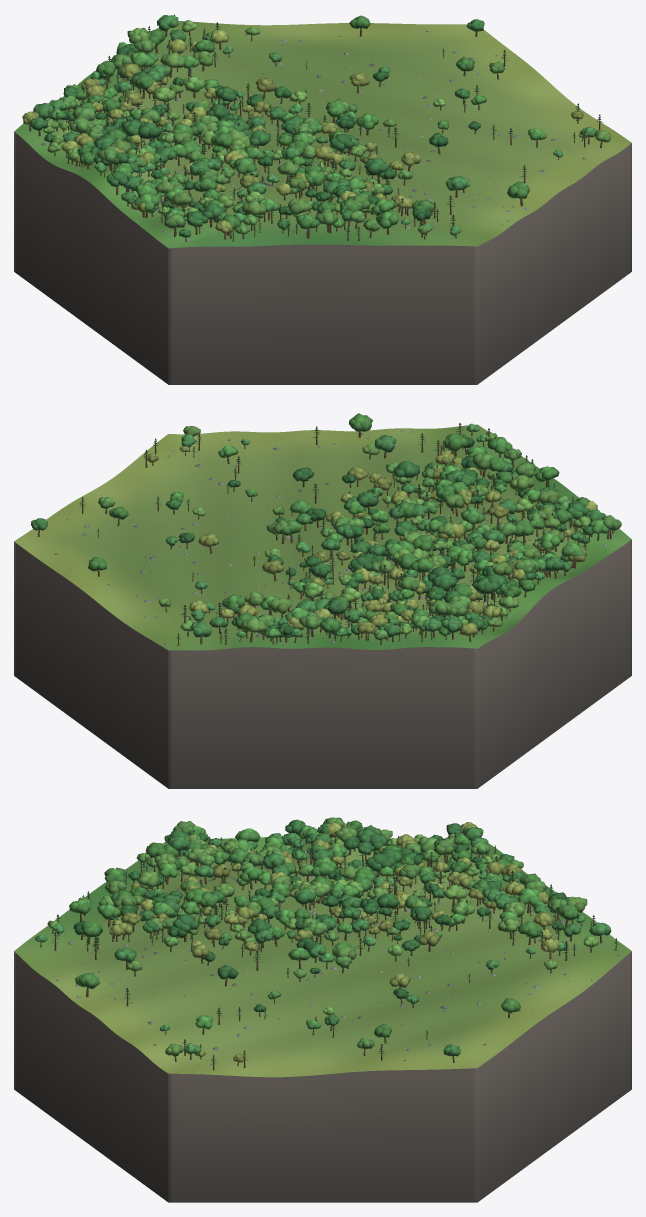
3 renders of one model, top to bottom at view 1: azimuth 30°, elevation 25°; view 2: azimuth 150°, elevation 25°; view 3: azimuth 270°, elevation 25°, orthographic.
Visible parts, largest first — view 1: hex_side_cut, terrain, broadleaf_canopy, trunks, conifer_canopy, boulders; view 2: hex_side_cut, terrain, broadleaf_canopy, trunks, conifer_canopy, boulders; view 3: hex_side_cut, terrain, broadleaf_canopy, trunks, conifer_canopy, boulders.
Boxes of the visible parts, box(x1,y1,x2,y2) form: hex_side_cut: box(14, 132, 631, 384); terrain: box(14, 21, 631, 248); broadleaf_canopy: box(22, 15, 610, 237); trunks: box(29, 15, 602, 241); conifer_canopy: box(51, 14, 602, 237); boulders: box(35, 22, 611, 244); hex_side_cut: box(14, 539, 631, 788); terrain: box(14, 424, 631, 650); broadleaf_canopy: box(31, 413, 621, 640); trunks: box(37, 423, 613, 644); conifer_canopy: box(79, 423, 614, 640); boulders: box(54, 429, 612, 645); hex_side_cut: box(14, 951, 631, 1202); terrain: box(14, 835, 631, 1077); broadleaf_canopy: box(35, 817, 611, 1062); trunks: box(40, 829, 616, 1070); conifer_canopy: box(49, 830, 618, 1063); boulders: box(28, 849, 621, 1065).
Size of the model in its own units: 4330 by 1520 by 5000.
